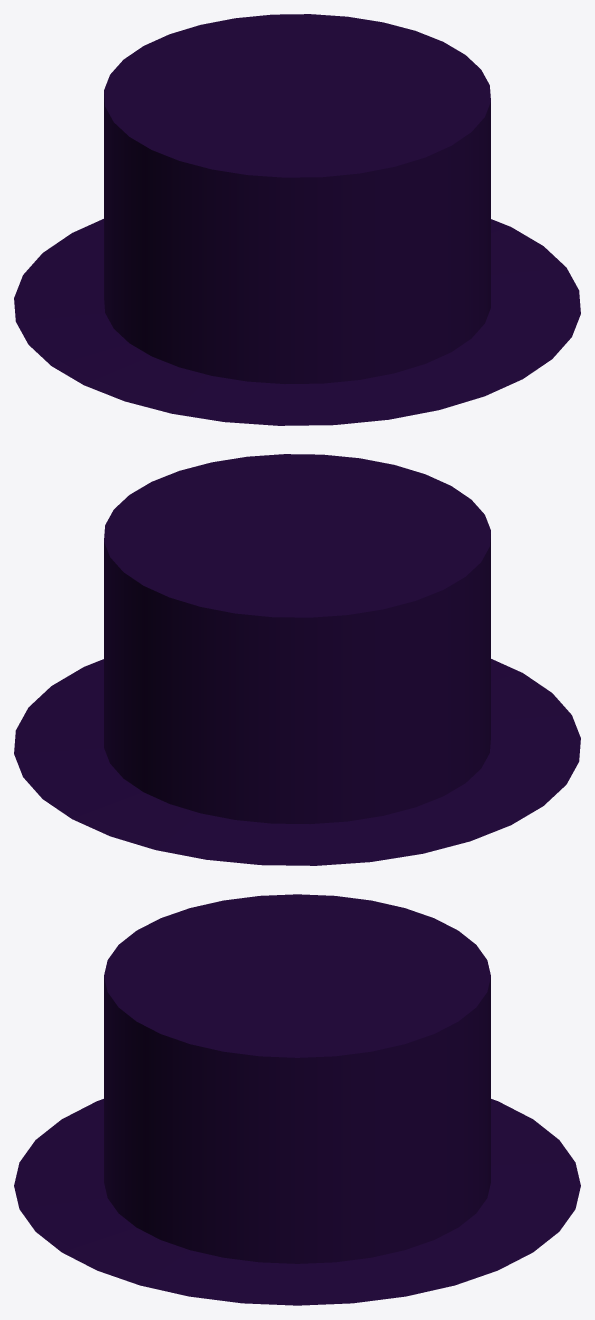
File: hat.obj
3 views of the same model, one above another, from view 1: azimuth 30°, elevation 25°; view 2: azimuth 150°, elevation 25°; view 3: azimuth 270°, elevation 25° (orthographic).
Visible parts, largest first — view 1: プレイヤー; view 2: プレイヤー; view 3: プレイヤー.
Part boxes in pixels (left/top/right/bottom): プレイヤー: left=14, top=14, right=580, bottom=425; プレイヤー: left=14, top=454, right=580, bottom=865; プレイヤー: left=14, top=894, right=580, bottom=1305.
Bounding box in the file's own units: 0.4774 × 0.1949 × 0.4774.
Materials: 1 (1 with a texture image).
